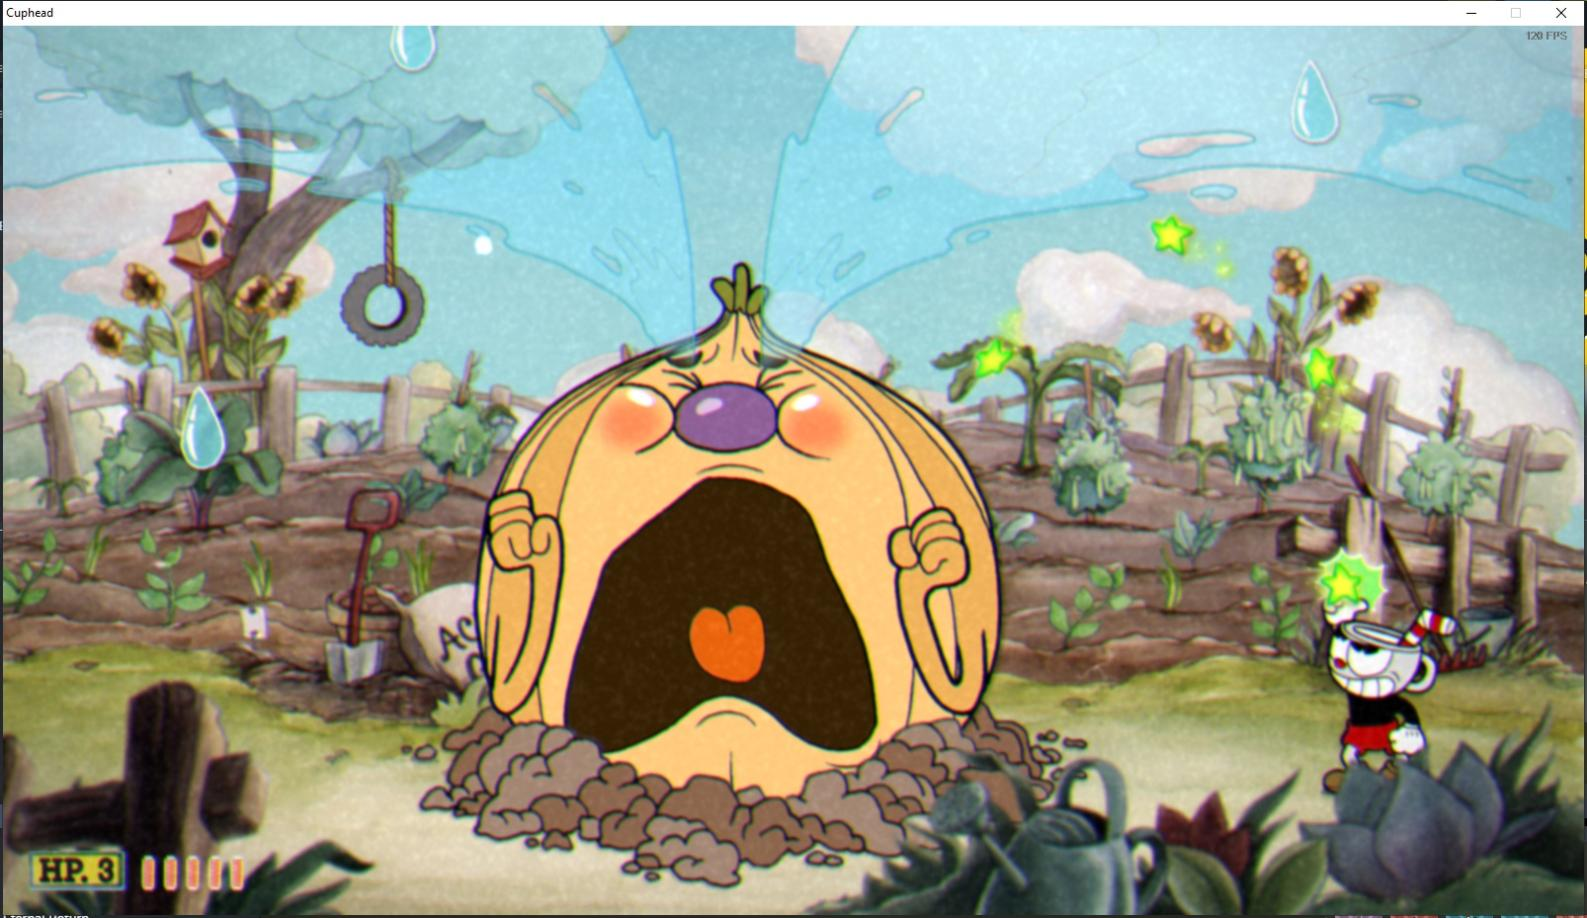hp3: (91, 853, 123, 890)
onion_boss: (466, 254, 1006, 819)
player: (1302, 573, 1460, 803)
rain: (1282, 58, 1350, 154), (176, 384, 228, 474), (381, 25, 449, 79)
